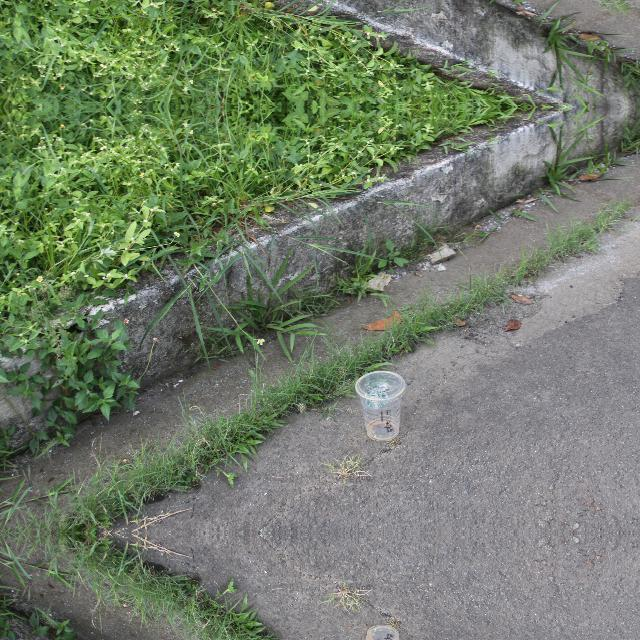Plastic: (355, 368, 407, 442), (355, 623, 407, 640)
